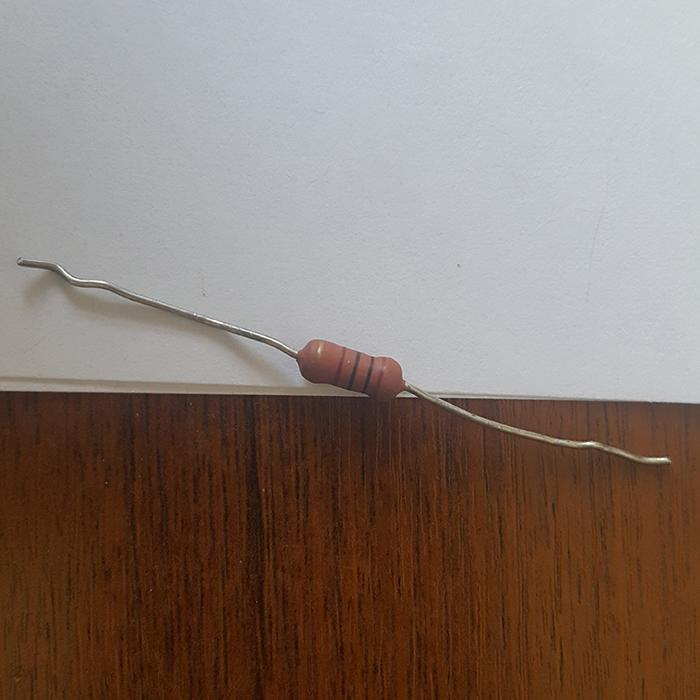resistor: (294, 338, 406, 402)
